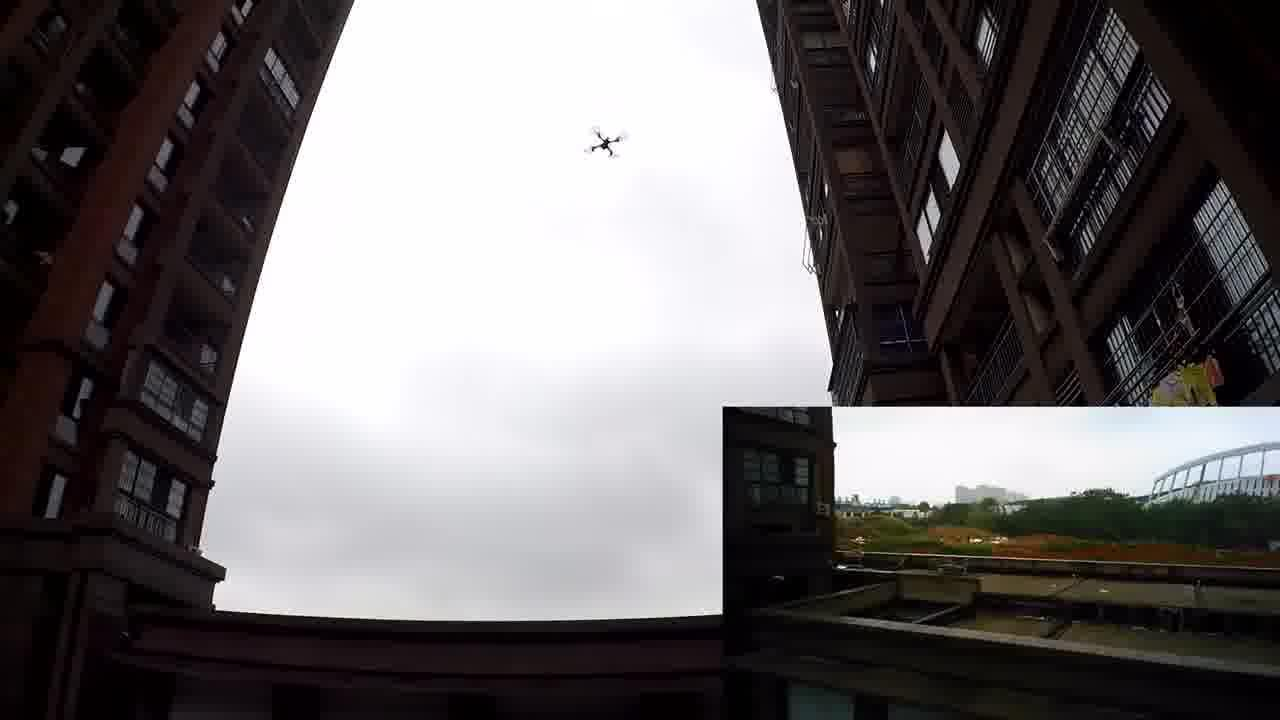drone: (576, 122, 633, 162)
